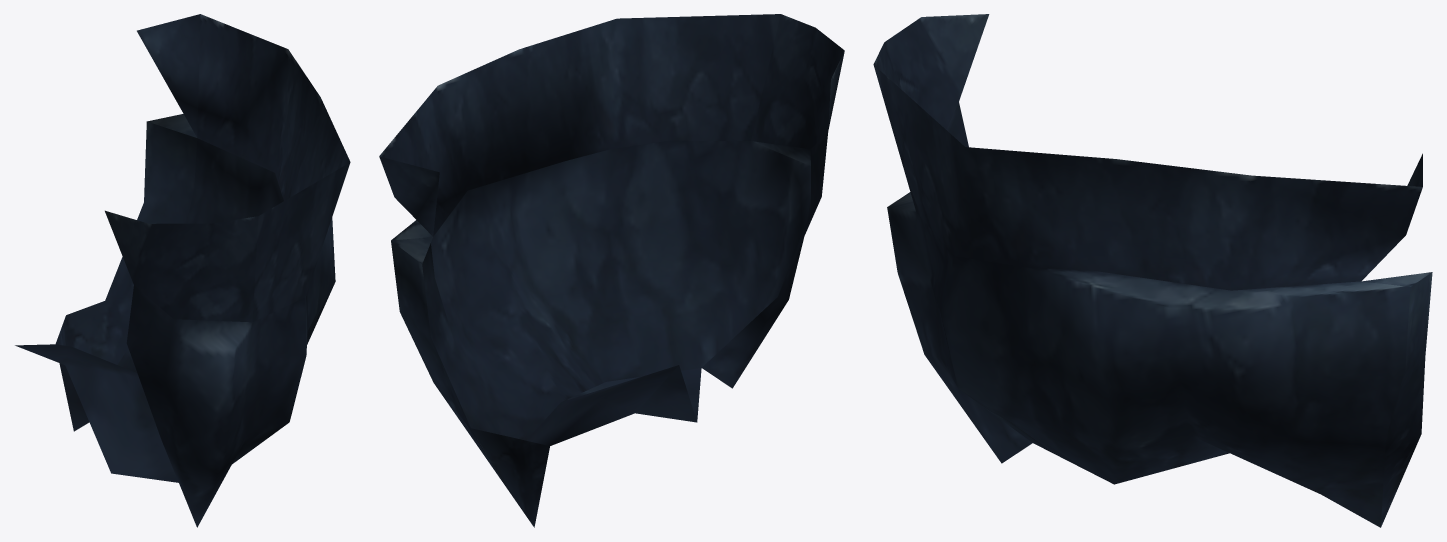
The model's file is Area_04_25.fbx.
3 renders of one model, left to right at view 1: azimuth 30°, elevation 25°; view 2: azimuth 150°, elevation 25°; view 3: azimuth 270°, elevation 25°, orthographic. The views are drawn at different scales.
Visible parts, largest first — view 1: Area_04_25; view 2: Area_04_25; view 3: Area_04_25.
Boxes of the visible parts, bbox=[...] form: Area_04_25: bbox=[15, 14, 350, 527]; Area_04_25: bbox=[379, 14, 844, 527]; Area_04_25: bbox=[873, 14, 1432, 527].
Size of the model in its own units: 4193 by 5119 by 5859.
